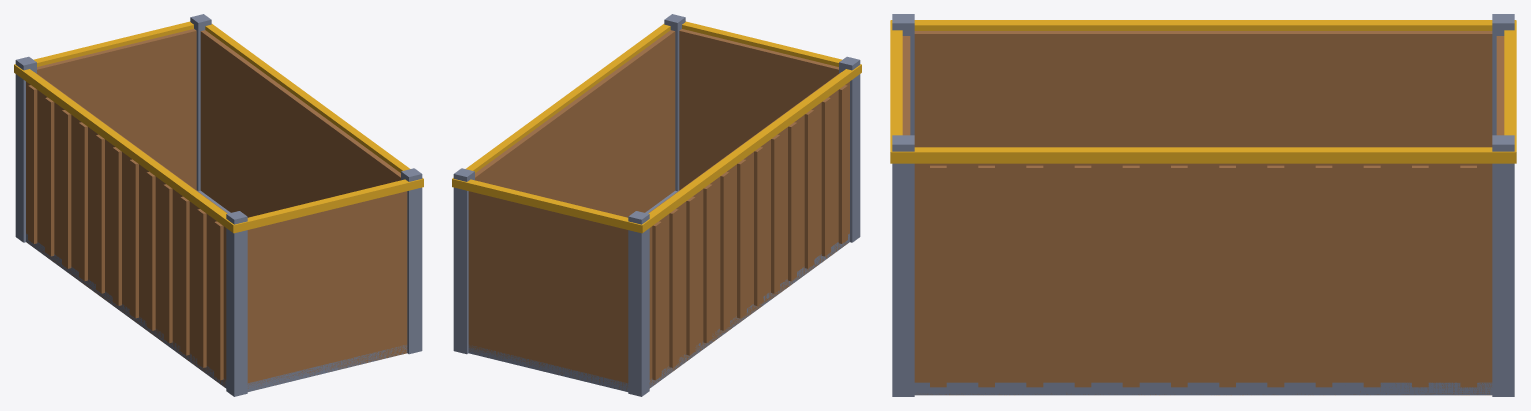
Rendered from container.glb.
3 renders of one model, left to right at view 1: azimuth 30°, elevation 25°; view 2: azimuth 150°, elevation 25°; view 3: azimuth 270°, elevation 25°, orthographic. The views are drawn at different scales.
Visible parts, largest first — view 1: container; view 2: container; view 3: container.
Part boxes in pixels (left/top/right/bottom): container: left=14, top=14, right=423, bottom=396; container: left=452, top=14, right=861, bottom=396; container: left=890, top=14, right=1516, bottom=396.
Bounding box in the file's own units: 2.25 × 2 × 4.5.
